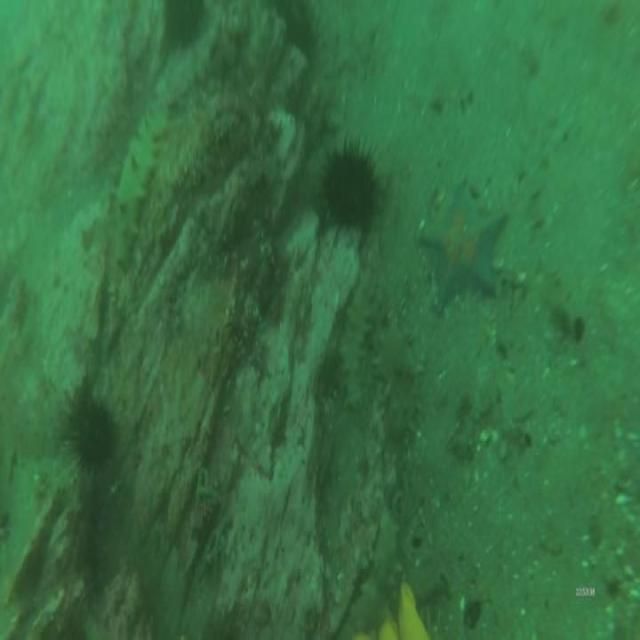echinus: (326, 144, 376, 232), (66, 395, 116, 457), (170, 6, 202, 46)
holothurian: (120, 107, 162, 256), (351, 504, 399, 627), (377, 321, 421, 439), (342, 278, 364, 419)
starfish: (419, 185, 505, 311)
